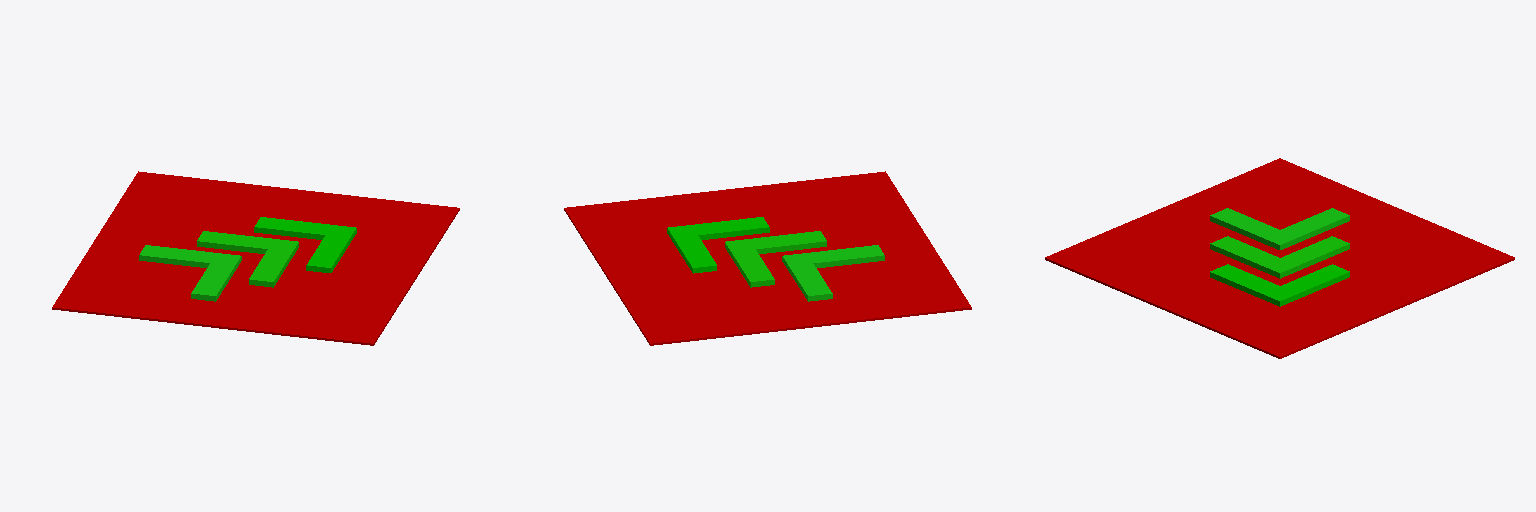
File: Arrows.obj
3 renders of one model, left to right at view 1: azimuth 30°, elevation 25°; view 2: azimuth 150°, elevation 25°; view 3: azimuth 270°, elevation 25°, orthographic.
Parts seen in each view (by area): view 1: Cube.004, Cube.001, Cube.002, Cube.003; view 2: Cube.004, Cube.002, Cube.001, Cube.003; view 3: Cube.004, Cube.001, Cube.002, Cube.003.
Part boxes in pixels (x1,y1,x2,y2): Cube.004: (52,171,459,345); Cube.001: (254,217,356,272); Cube.002: (139,245,241,301); Cube.003: (197,231,298,287); Cube.004: (564,171,971,345); Cube.002: (782,245,884,301); Cube.001: (667,217,769,273); Cube.003: (725,231,826,287); Cube.004: (1045,158,1514,358); Cube.001: (1210,264,1349,306); Cube.002: (1210,208,1349,249); Cube.003: (1210,236,1349,278).
Bounding box in the file's own units: 40.05 × 0.7094 × 40.05.